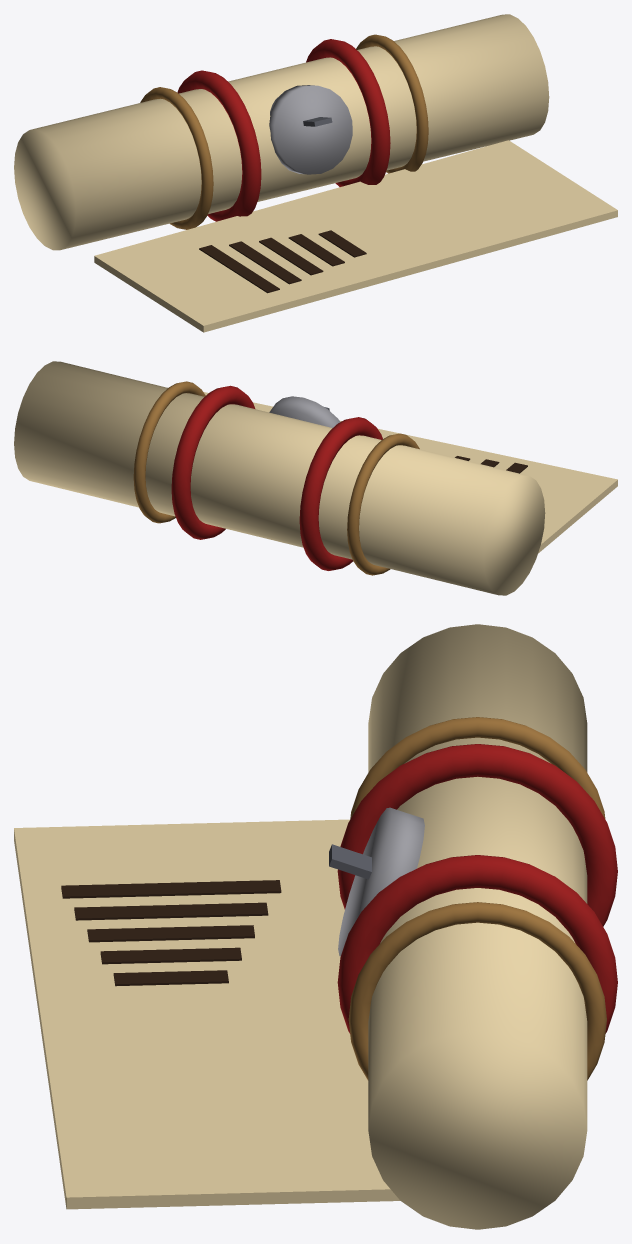
The model's file is tjarks_eid.glb.
3 renders of one model, top to bottom at view 1: azimuth 30°, elevation 25°; view 2: azimuth 150°, elevation 25°; view 3: azimuth 270°, elevation 25°, orthographic. The views are drawn at different scales.
Parts seen in each view (by area): view 1: Cone; view 2: Cone; view 3: Cone.
Part boxes in pixels (x1,y1,x2,y2): Cone: [14, 14, 617, 332]; Cone: [14, 361, 617, 595]; Cone: [14, 624, 617, 1229].
Size of the model in its own units: 0.22 by 0.064 by 0.1379.
